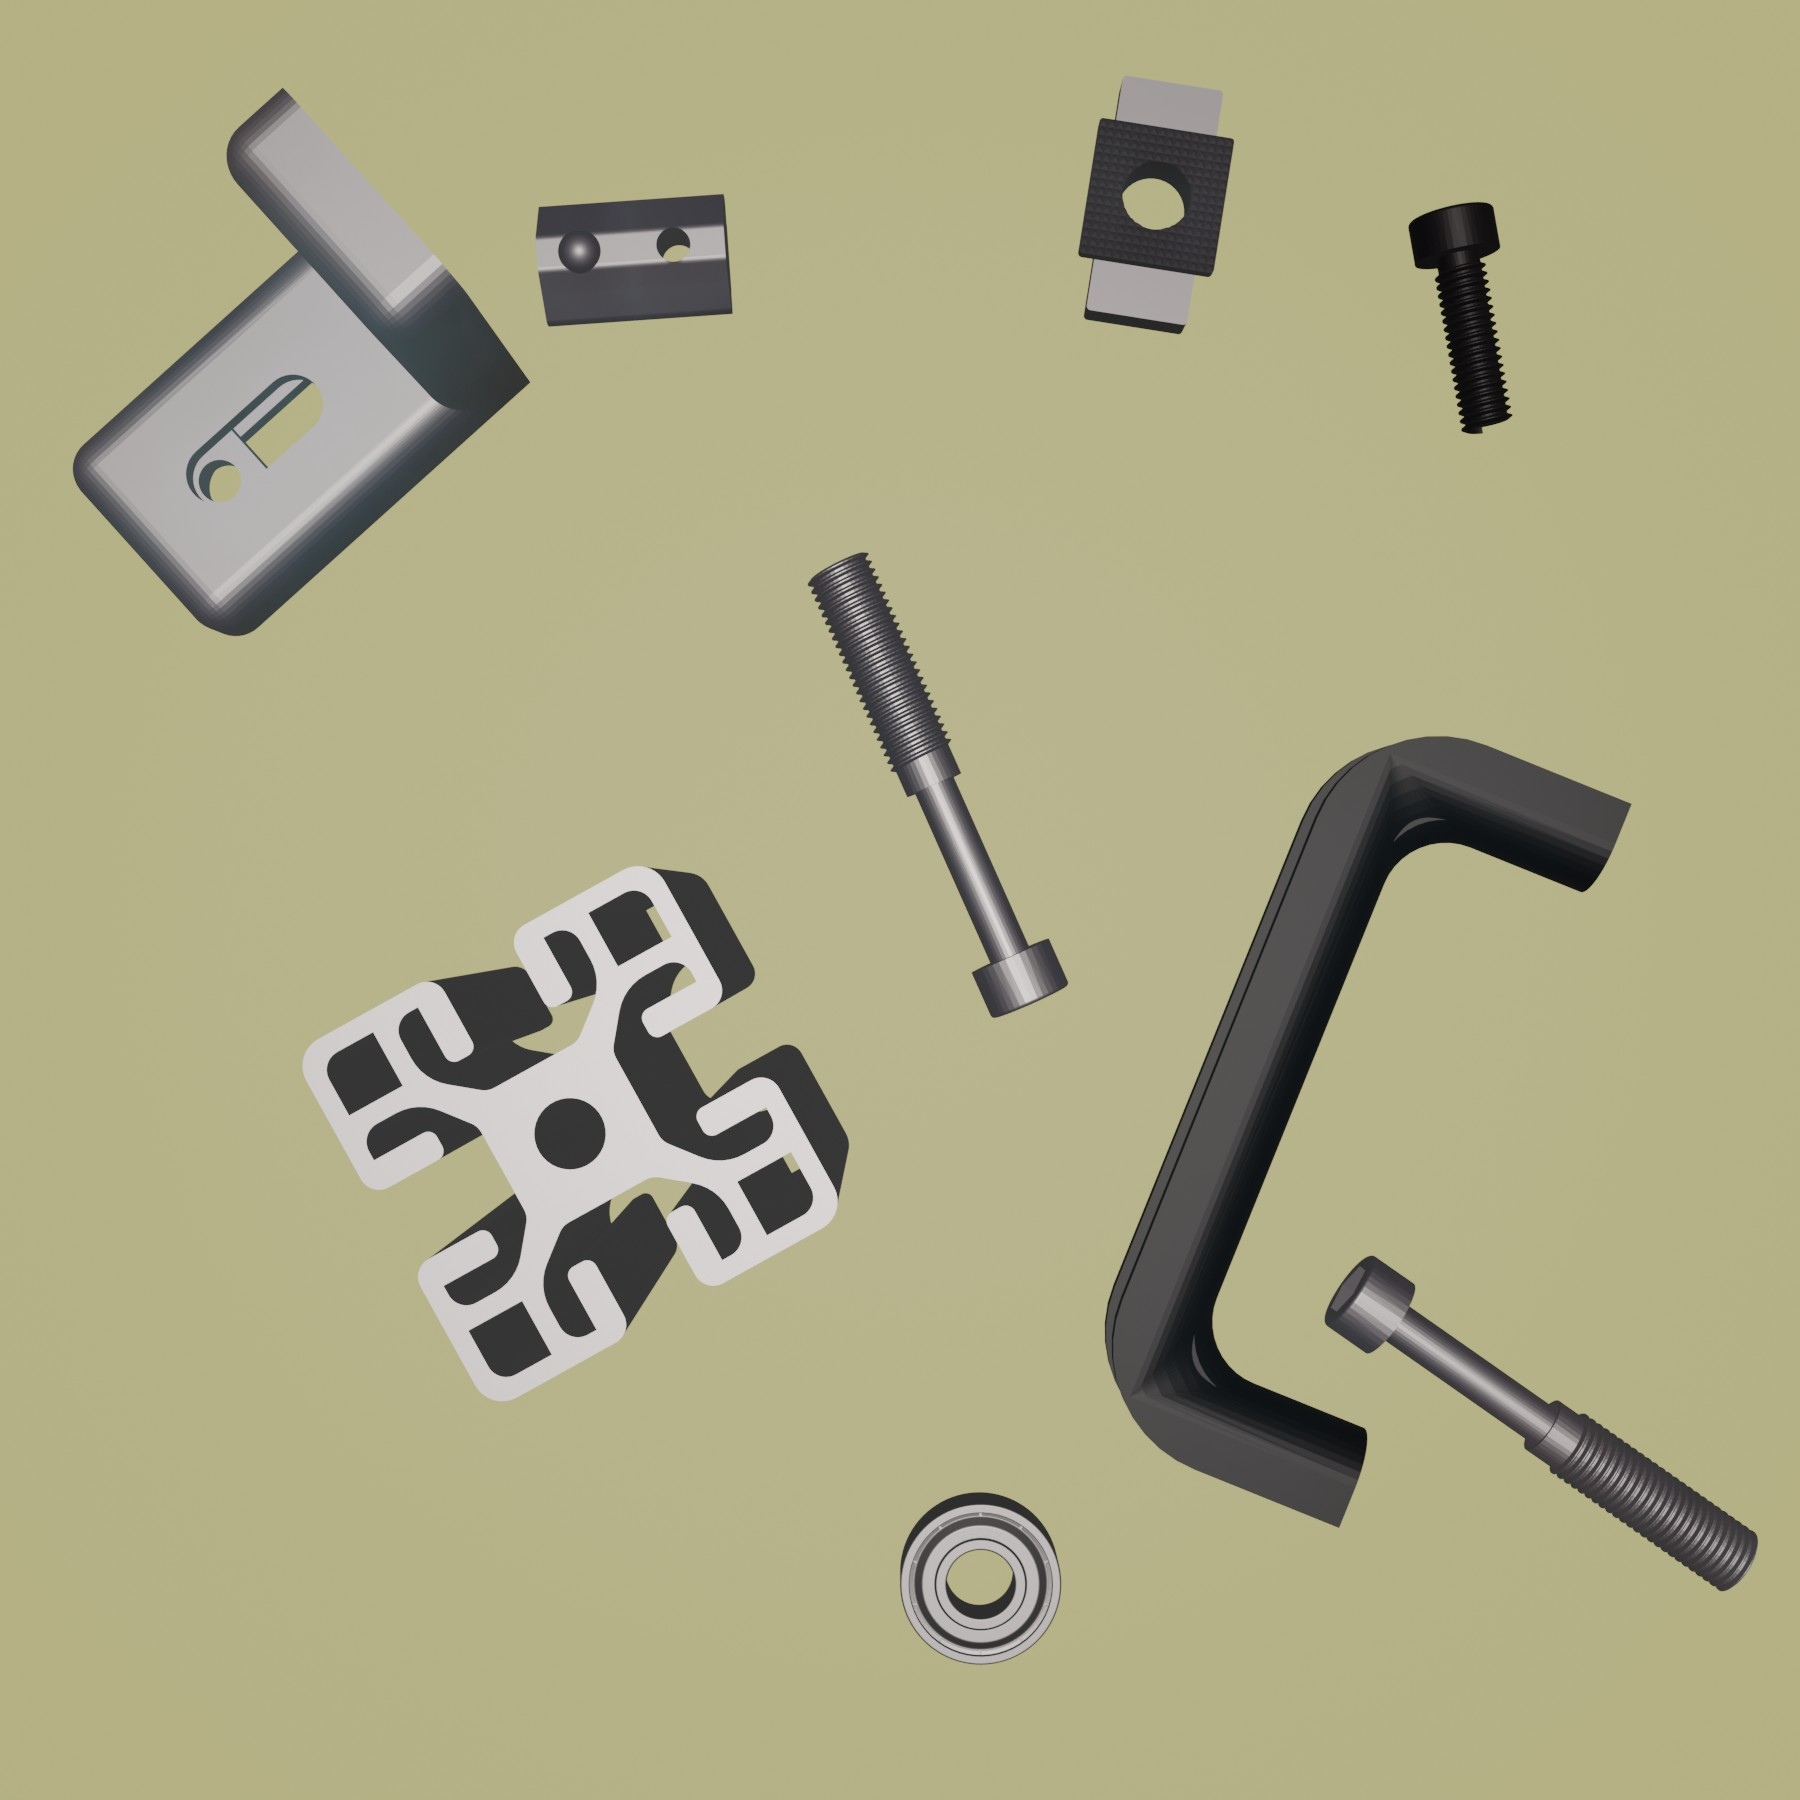Aluminium Extension: (302, 862, 851, 1404)
Ball Bearing: (898, 1488, 1063, 1666)
Multiwinkel: (71, 82, 531, 638)
Pull Handle: (1104, 732, 1635, 1530)
Shoulder Socket Head Cap Screw: (1320, 1251, 1759, 1592), (804, 549, 1070, 1020)
Socket Head Cap Screw: (1404, 199, 1515, 438)
T Nut Square: (1075, 73, 1238, 338)
T Spring Nut: (532, 191, 735, 331)
